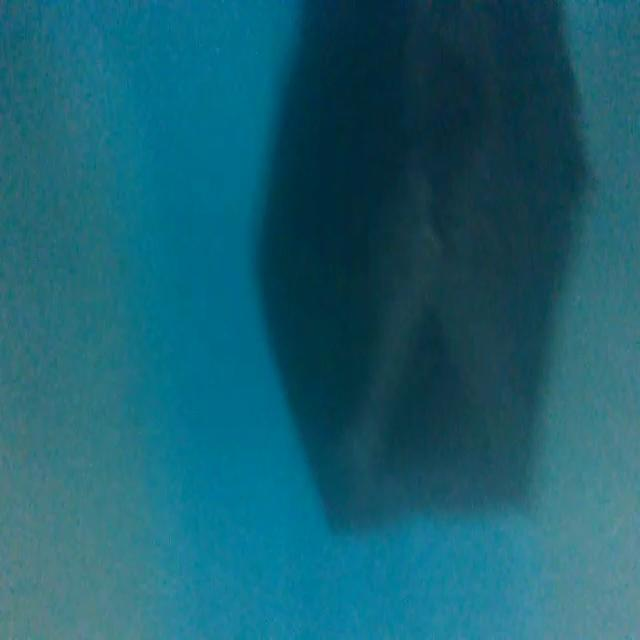plastic bags: (247, 4, 600, 534)
